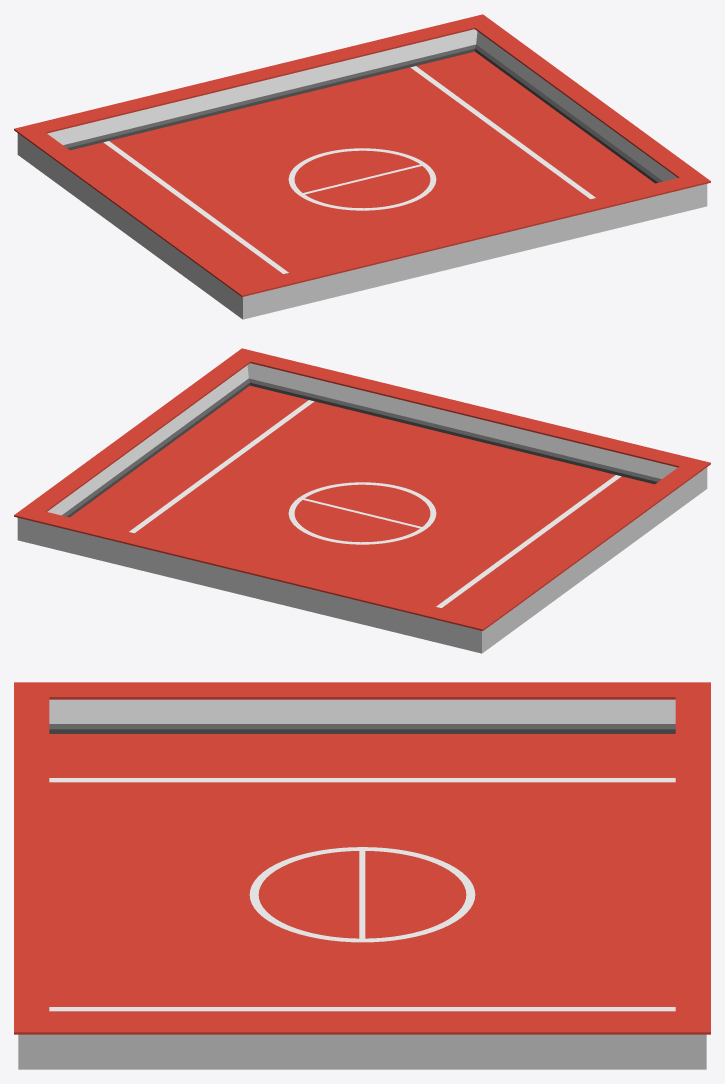
File: Ping-Pong_Arena.fbx
The picture shows the model from 3 angles, top to bottom: view 1: azimuth 30°, elevation 25°; view 2: azimuth 150°, elevation 25°; view 3: azimuth 270°, elevation 25°; orthographic projection. The views are drawn at different scales.
Parts seen in each view (by area): view 1: Plane, Cube.011, Cube.009, Cube.005, Cube.007, Cube.001, Cube.004; view 2: Plane, Cube.011, Cube.005, Cube.009, Cube.007, Cube.001, Cube.004; view 3: Plane, Cube.011, Cube.004, Cube.007, Cube.001.
Boxes of the visible parts, left/top/right/bottom form: Plane: left=70, top=51, right=654, bottom=282; Cube.011: left=14, top=14, right=710, bottom=296; Cube.009: left=243, top=184, right=707, bottom=319; Cube.005: left=47, top=29, right=477, bottom=144; Cube.007: left=17, top=133, right=242, bottom=319; Cube.001: left=63, top=44, right=662, bottom=183; Cube.004: left=476, top=31, right=677, bottom=181; Plane: left=70, top=385, right=654, bottom=616; Cube.011: left=14, top=348, right=710, bottom=630; Cube.005: left=17, top=518, right=481, bottom=653; Cube.009: left=247, top=363, right=677, bottom=478; Cube.007: left=482, top=467, right=707, bottom=653; Cube.001: left=62, top=378, right=661, bottom=517; Cube.004: left=47, top=365, right=248, bottom=515; Plane: left=49, top=734, right=675, bottom=1017; Cube.011: left=14, top=682, right=710, bottom=1034; Cube.004: left=18, top=1034, right=706, bottom=1069; Cube.007: left=49, top=699, right=675, bottom=723; Cube.001: left=49, top=724, right=675, bottom=733.
Size of the model in its own units: 2016 by 117 by 1697.
